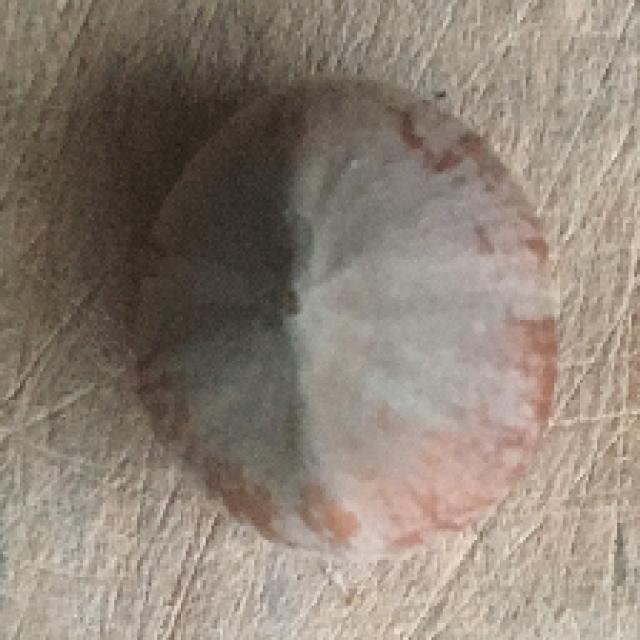qualityHazelnut: (126, 62, 562, 566)
